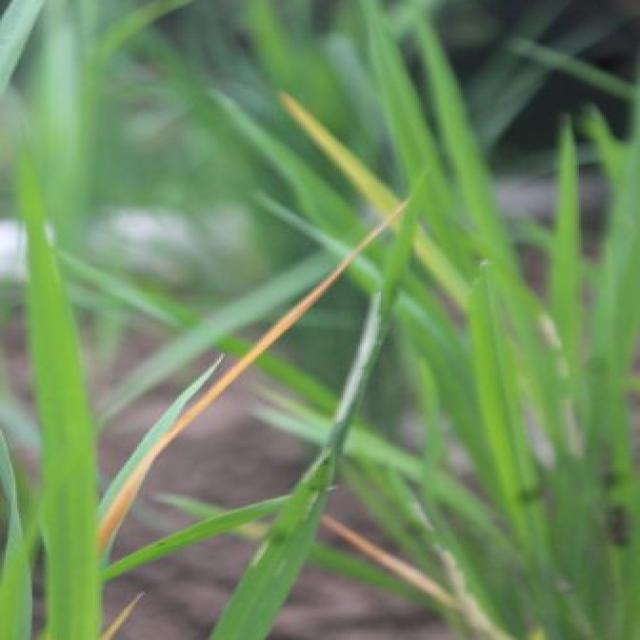Rice Tungro: (268, 88, 510, 324), (311, 499, 497, 640)
